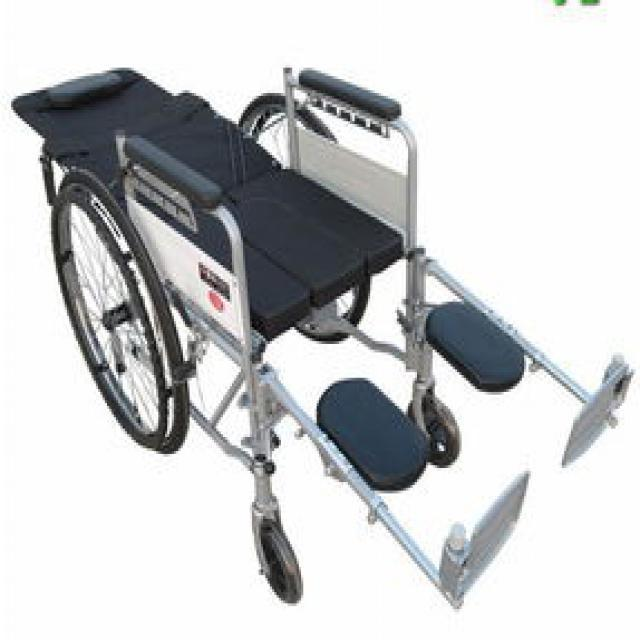wheelchair: (18, 48, 620, 615)
